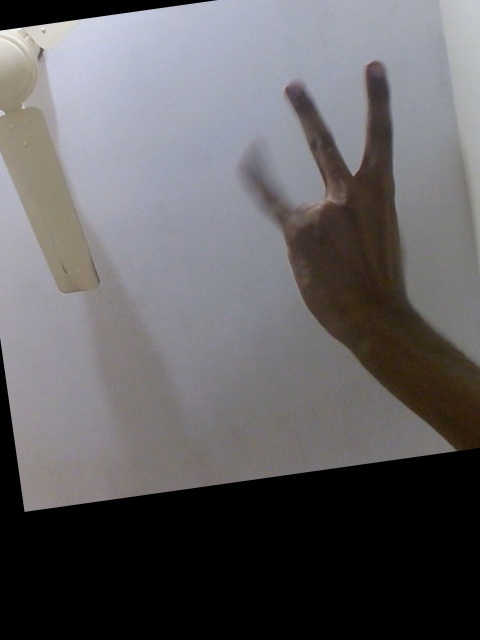hand: (238, 57, 423, 347)
